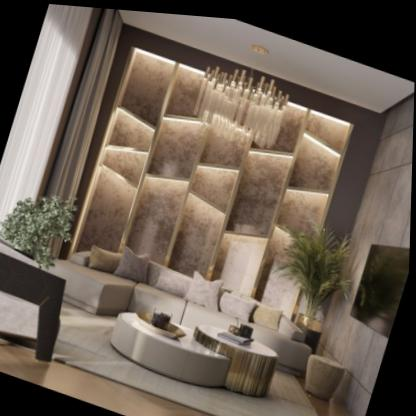Wall Panel: (55, 14, 387, 337), (0, 333, 227, 416)
